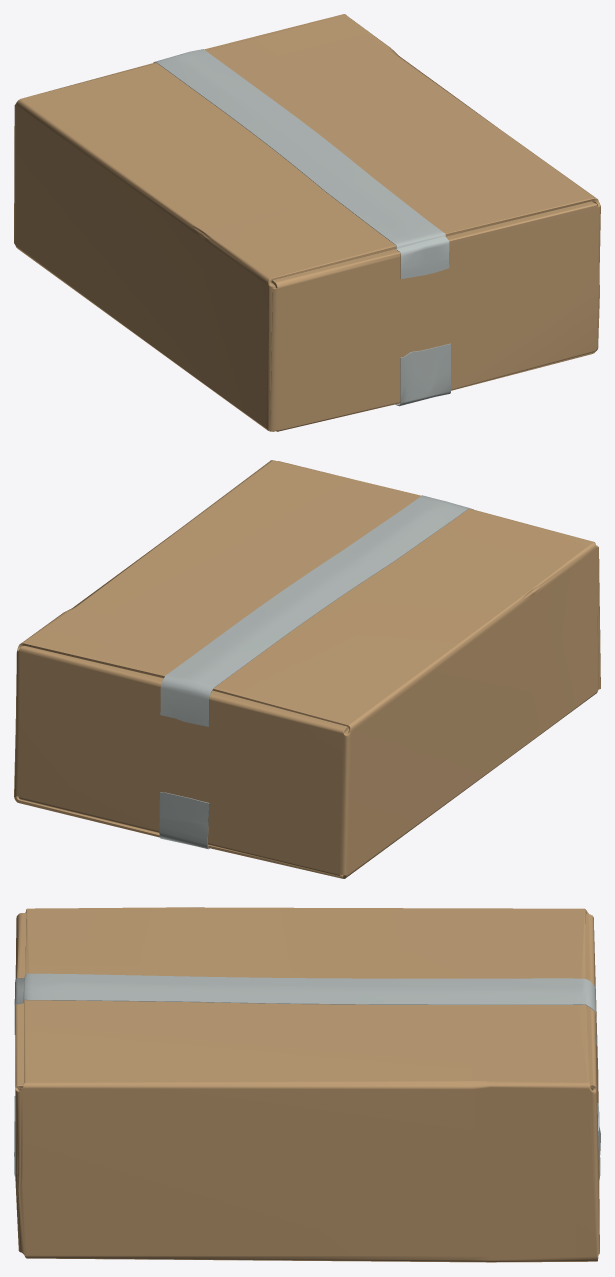
File: box_printer_brown_b02.glb
3 renders of one model, top to bottom at view 1: azimuth 30°, elevation 25°; view 2: azimuth 150°, elevation 25°; view 3: azimuth 270°, elevation 25°, orthographic. The views are drawn at different scales.
Size of the model in its own units: 0.2088 by 0.0974 by 0.2827.
